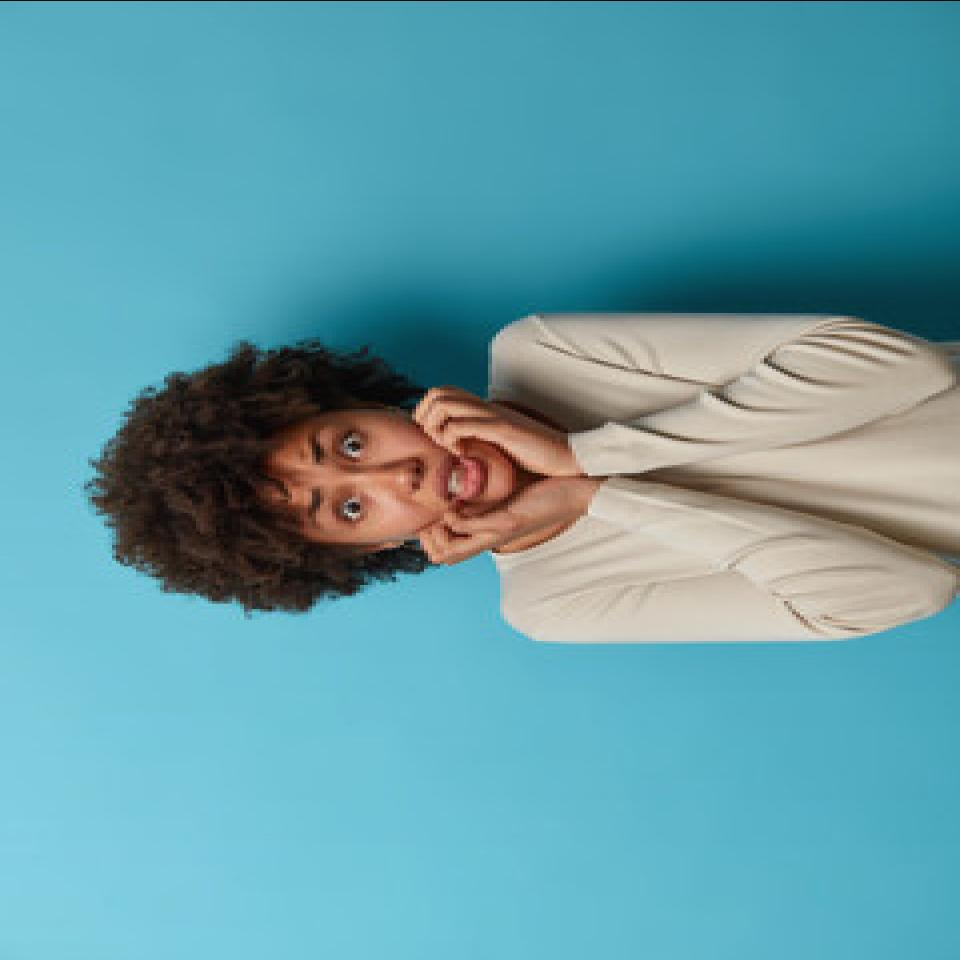Scared: (296, 388, 547, 562)
